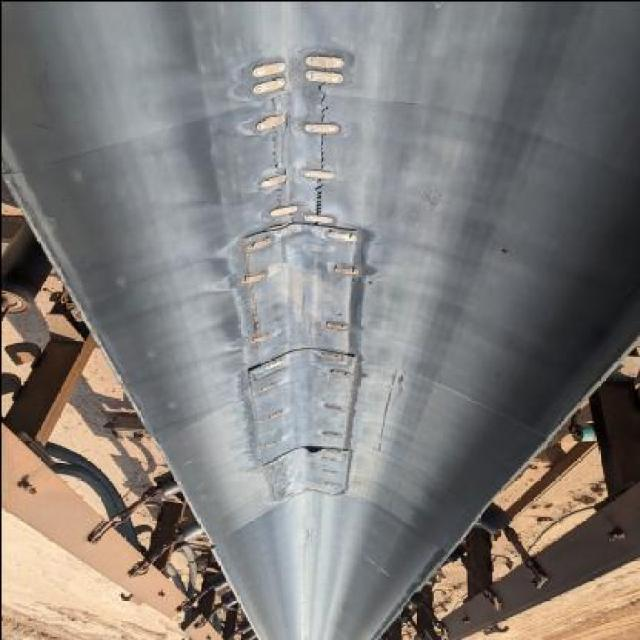Tear: (312, 82, 335, 124), (266, 130, 287, 174), (313, 132, 330, 172), (312, 179, 325, 215)
